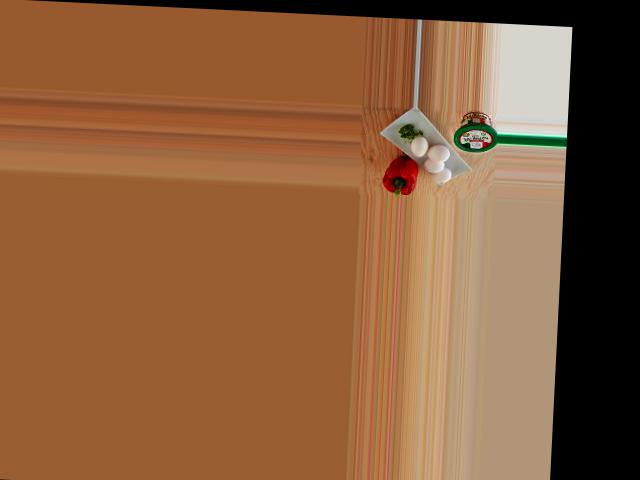bell_pepper: (379, 156, 425, 195)
